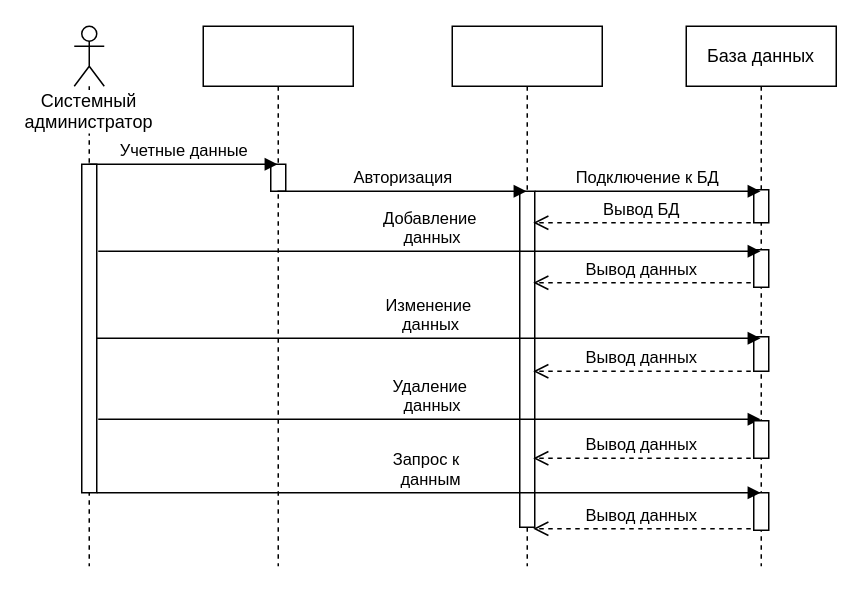
The diagram is 863 pixels wide and 593 high, and some of its shapes have lost their labels. The shapes that lost their labels are listed below. From the top down, each one's box as (x1, y1, x2, y2) in pixels, then its label:
(202, 25, 353, 566): Форма авторизации
(451, 25, 602, 566): Форма основного приложения
